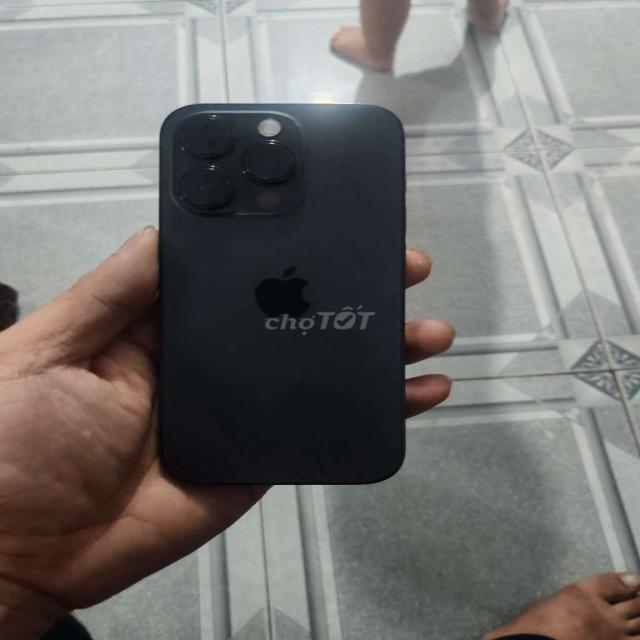gen_14: (142, 91, 422, 501)
